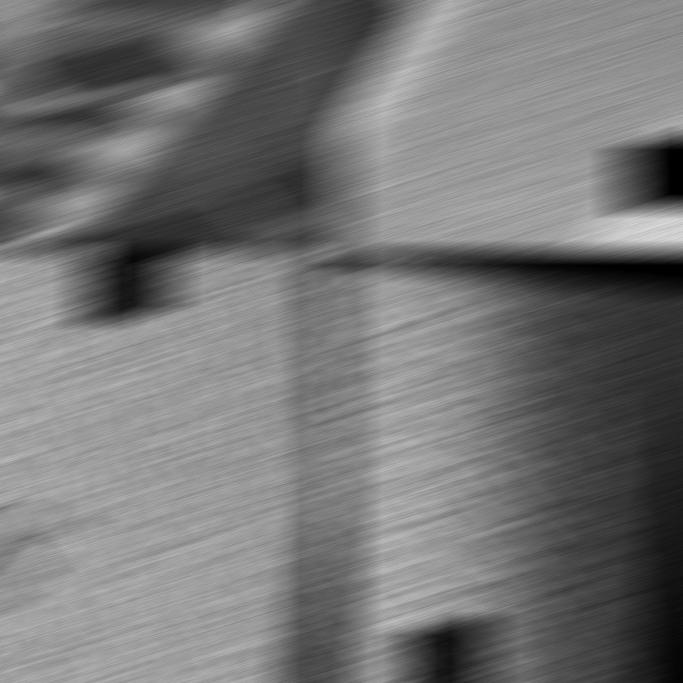Airbag: (331, 255, 683, 680), (0, 255, 351, 680), (331, 3, 683, 249), (0, 3, 351, 249)
